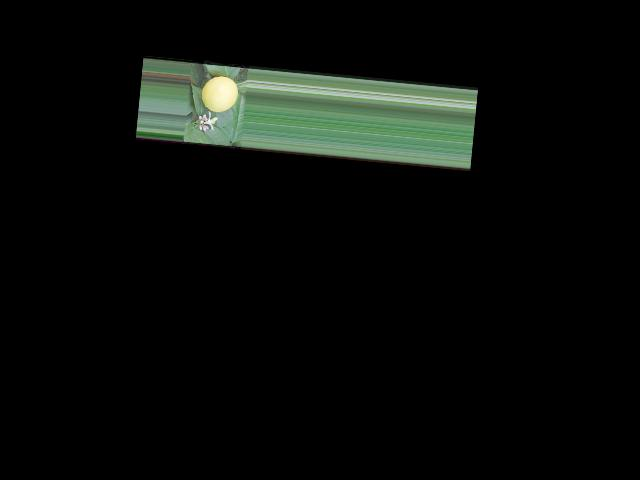lemon: (200, 71, 241, 114)
